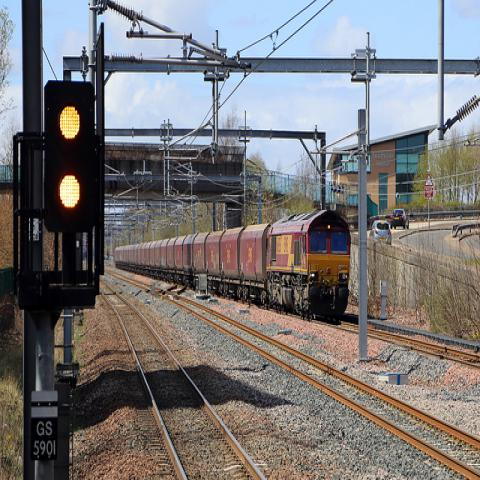car: (368, 220, 391, 244), (390, 208, 408, 230)
